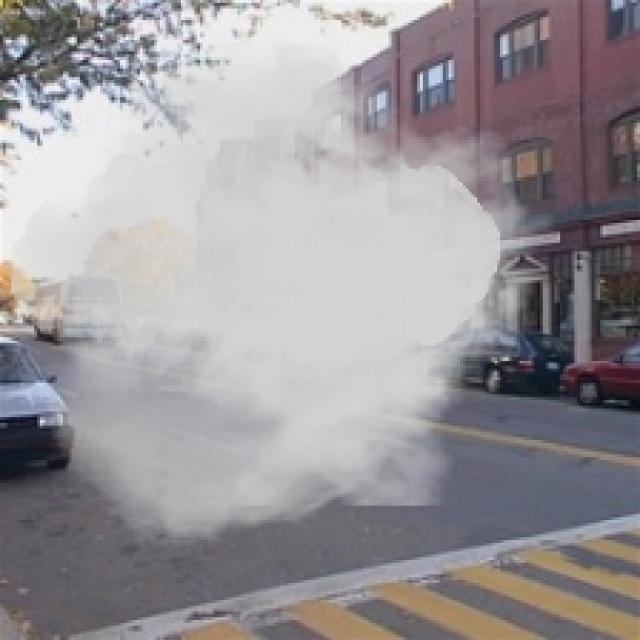smoke: (9, 31, 557, 552)
